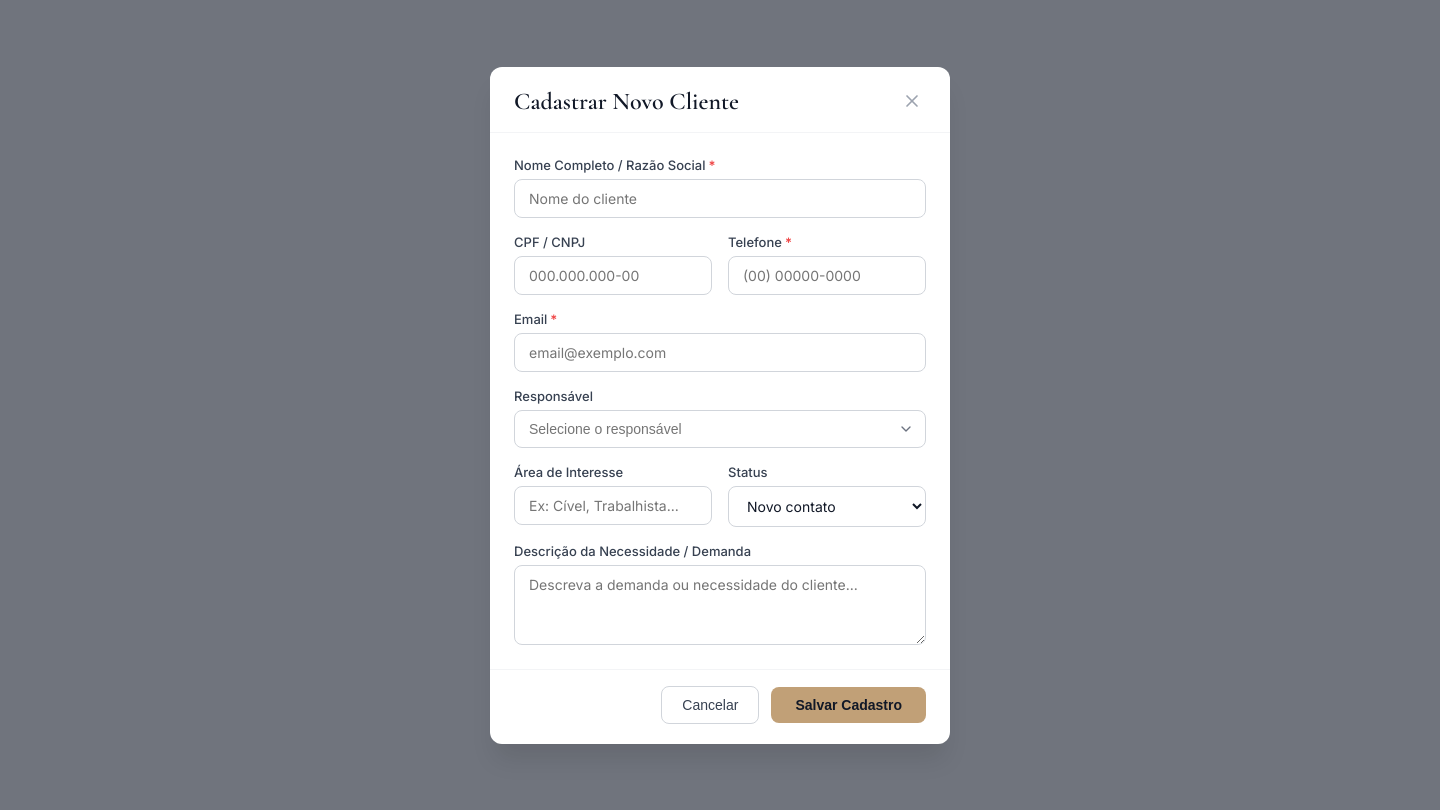
Test case: AddClientModal › bloqueia o envio e exibe erro quando há nome em branco
Type "61988887777" into the field with placeholder "(00) 00000-0000" at (827, 275), box [728,256,926,294]
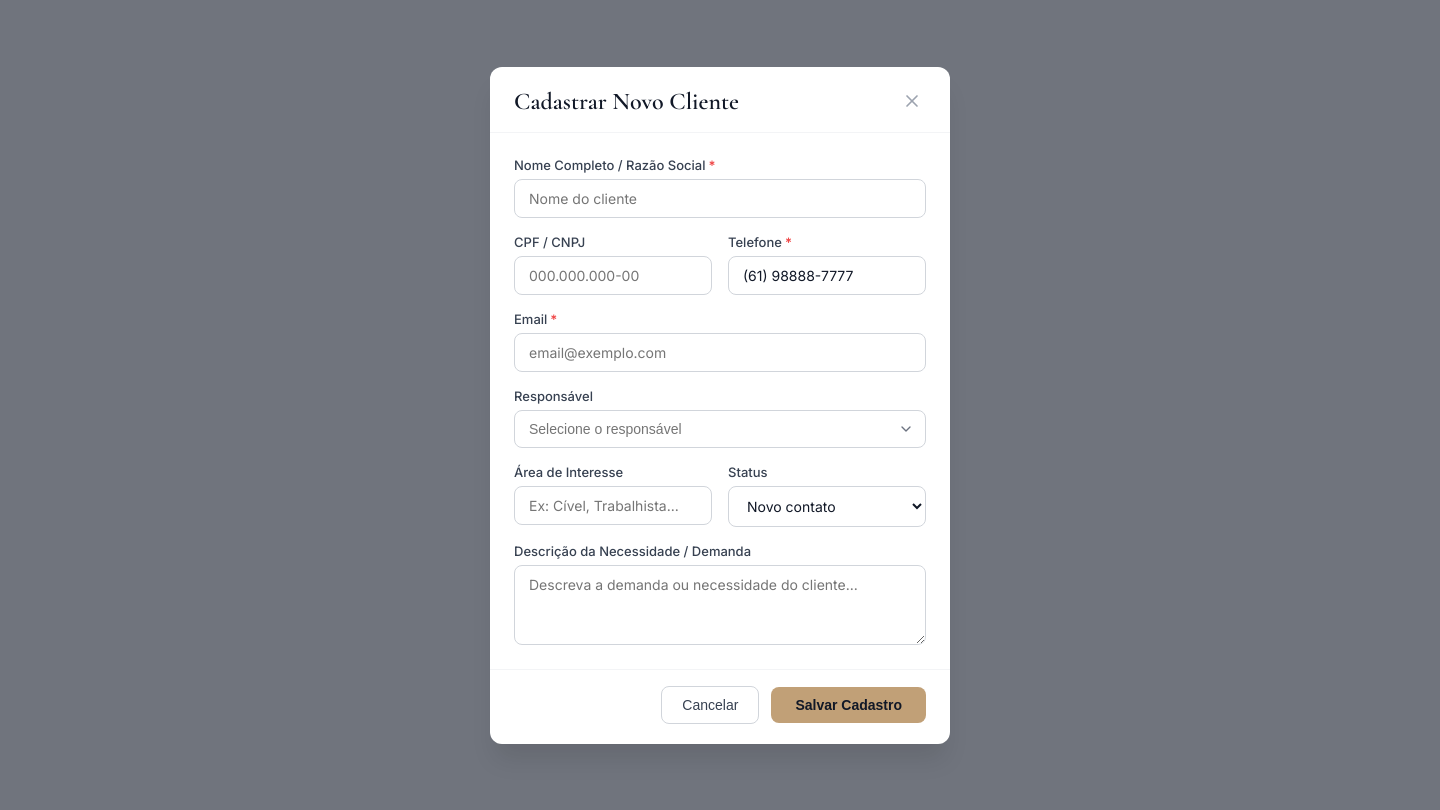
Type "teste@email.com" into the field with placeholder "email@exemplo.com" at (720, 352), box [514,332,926,372]
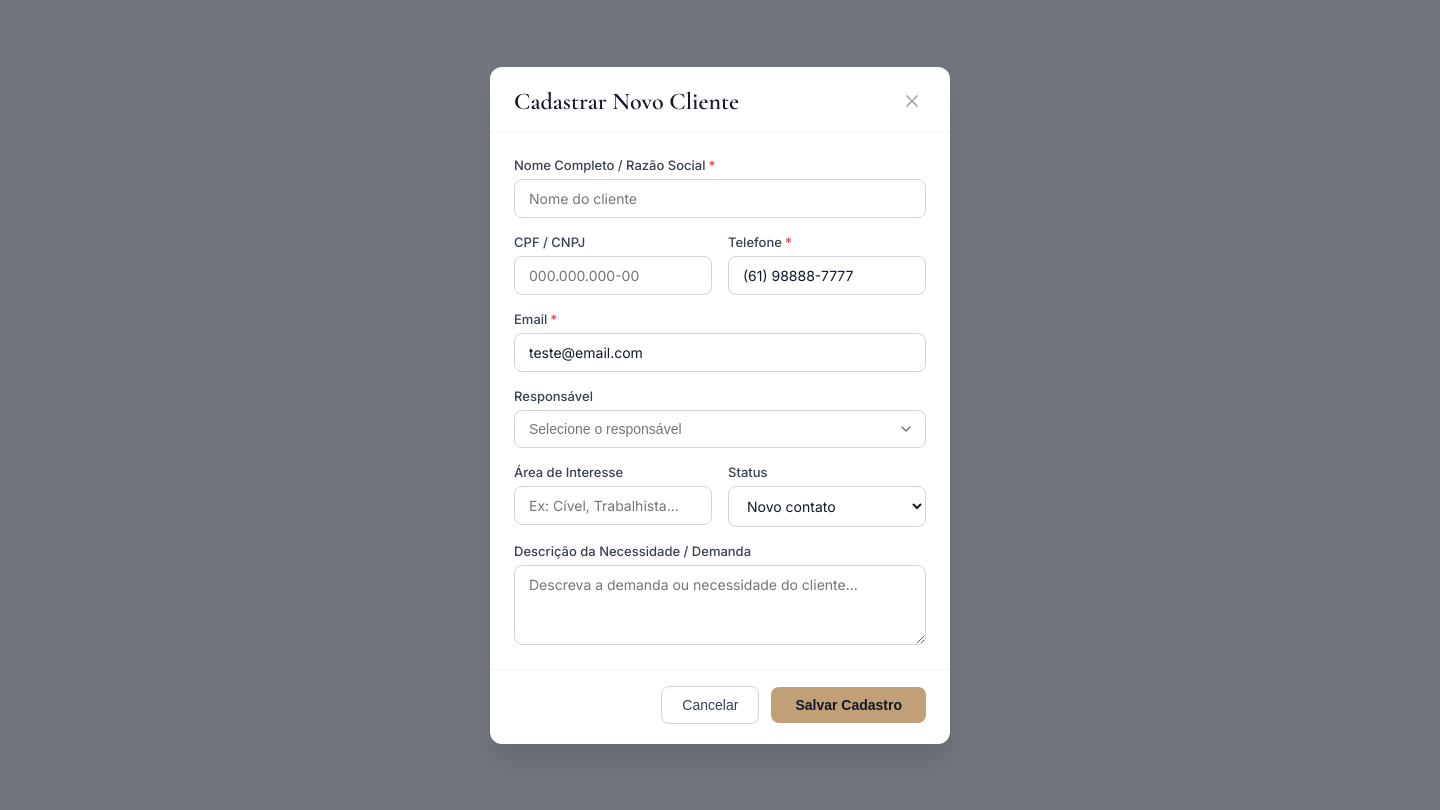
Click the button "Salvar Cadastro" at (849, 704), box [771,686,926,722]
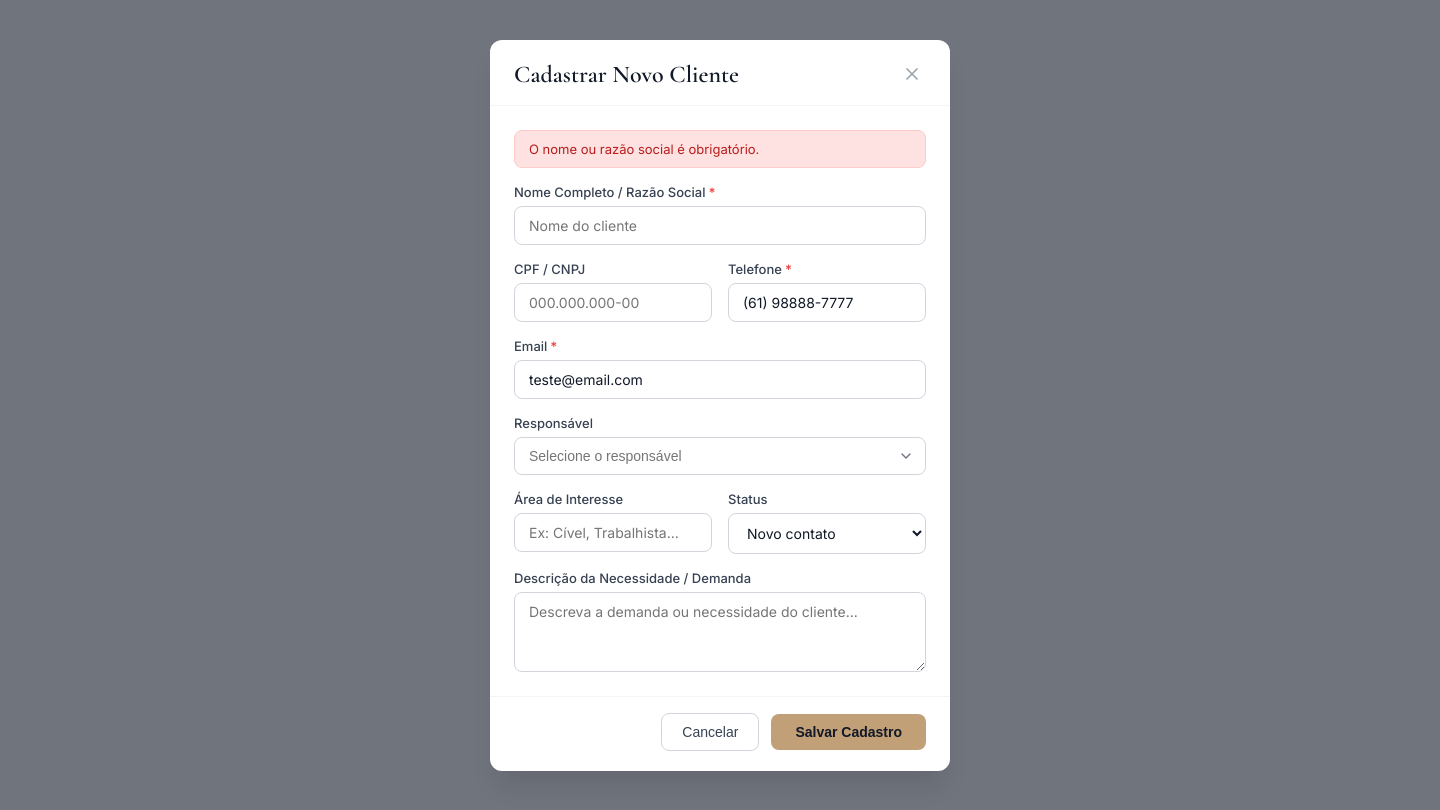
Expected: the text "O nome ou razão social é obrigatório." is shown, [514,130,926,168]
